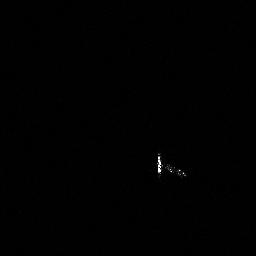ship: (152, 150, 190, 181)
